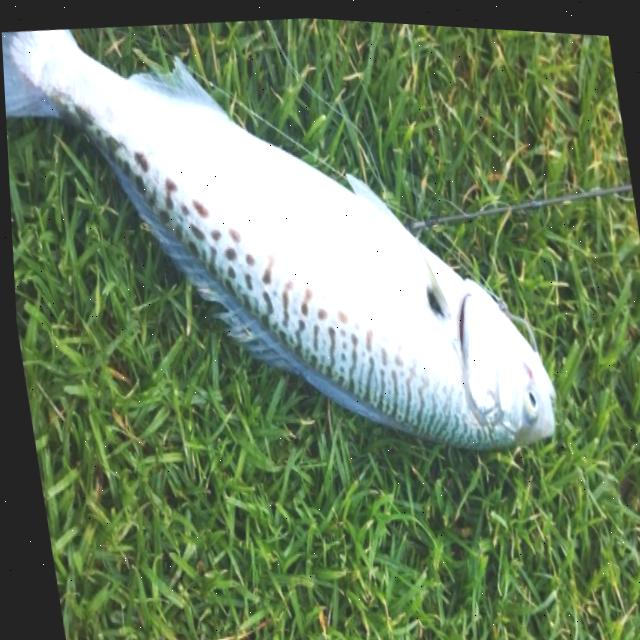Australian Salmon: (0, 0, 577, 529)
